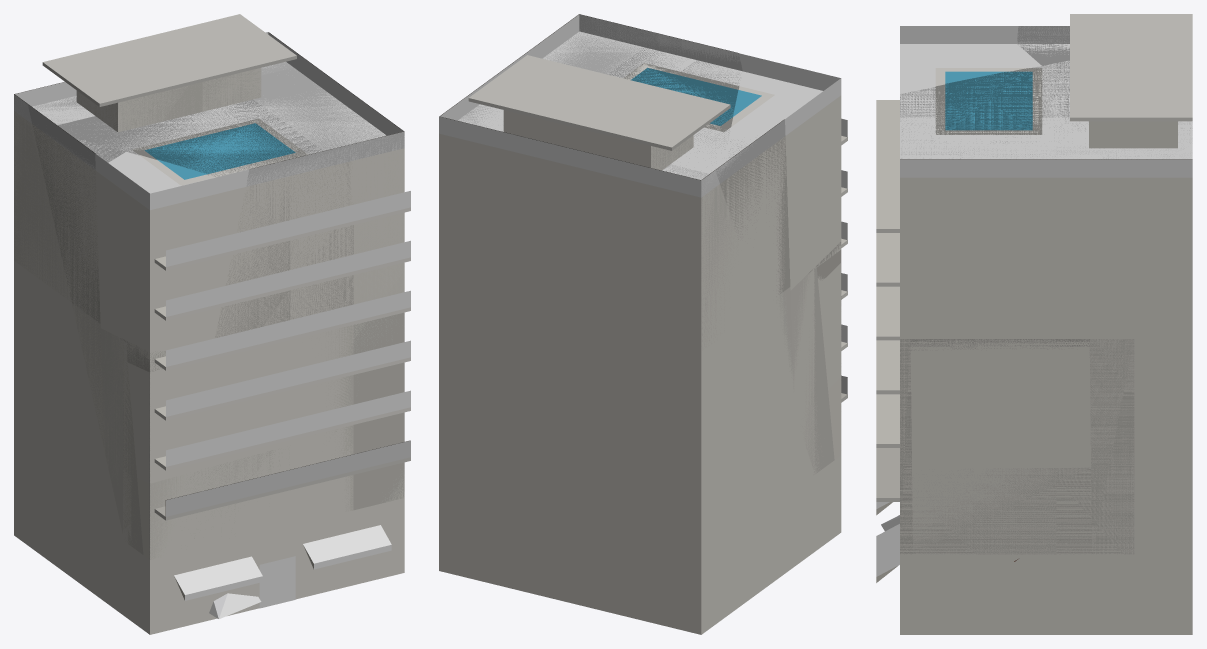
File: bld_apartment_b.glb
The picture shows the model from 3 angles, left to right: view 1: azimuth 30°, elevation 25°; view 2: azimuth 150°, elevation 25°; view 3: azimuth 270°, elevation 25°; orthographic projection. The views are drawn at different scales.
Visible parts, largest first — view 1: damaged, intact, chunk_08, chunk_04, chunk_00, chunk_09, chunk_02, chunk_05, chunk_01, chunk_10, chunk_06, chunk_11 (+1 smaller); view 2: damaged, chunk_06, chunk_10, chunk_02, chunk_07, intact, chunk_03, chunk_11, chunk_04, chunk_08, chunk_00, chunk_09; view 3: damaged, intact, chunk_05, chunk_07, chunk_09, chunk_01, chunk_11, chunk_03, chunk_08, chunk_10.
Boxes of the visible parts, x1,y1,x2,y2 form: damaged: (14,14,410,633); intact: (14,95,410,554); chunk_08: (77,123,290,310); chunk_04: (77,261,277,487); chunk_00: (77,436,257,634); chunk_09: (218,95,404,269); chunk_02: (14,390,77,581); chunk_05: (290,263,404,455); chunk_01: (290,447,404,599); chunk_10: (14,86,216,254); chunk_06: (14,235,77,432); chunk_11: (202,62,330,122); damaged: (439,14,847,634); chunk_06: (556,253,766,484); chunk_10: (556,124,766,300); chunk_02: (556,438,766,634); chunk_07: (439,237,556,449); intact: (579,15,847,552); chunk_03: (439,421,556,583); chunk_11: (439,104,563,265); chunk_04: (766,199,841,436); chunk_08: (697,73,841,252); chunk_00: (766,383,841,586); chunk_09: (543,31,695,77); damaged: (876,14,1192,634); intact: (876,26,1134,554); chunk_05: (900,285,1056,478); chunk_07: (1056,285,1192,478); chunk_09: (900,117,1056,285); chunk_01: (900,478,1056,634); chunk_11: (1056,117,1192,285); chunk_03: (1056,478,1192,634); chunk_08: (900,44,1056,117); chunk_10: (1056,44,1069,117).
Size of the model in its own units: 16.05 by 28 by 16.
